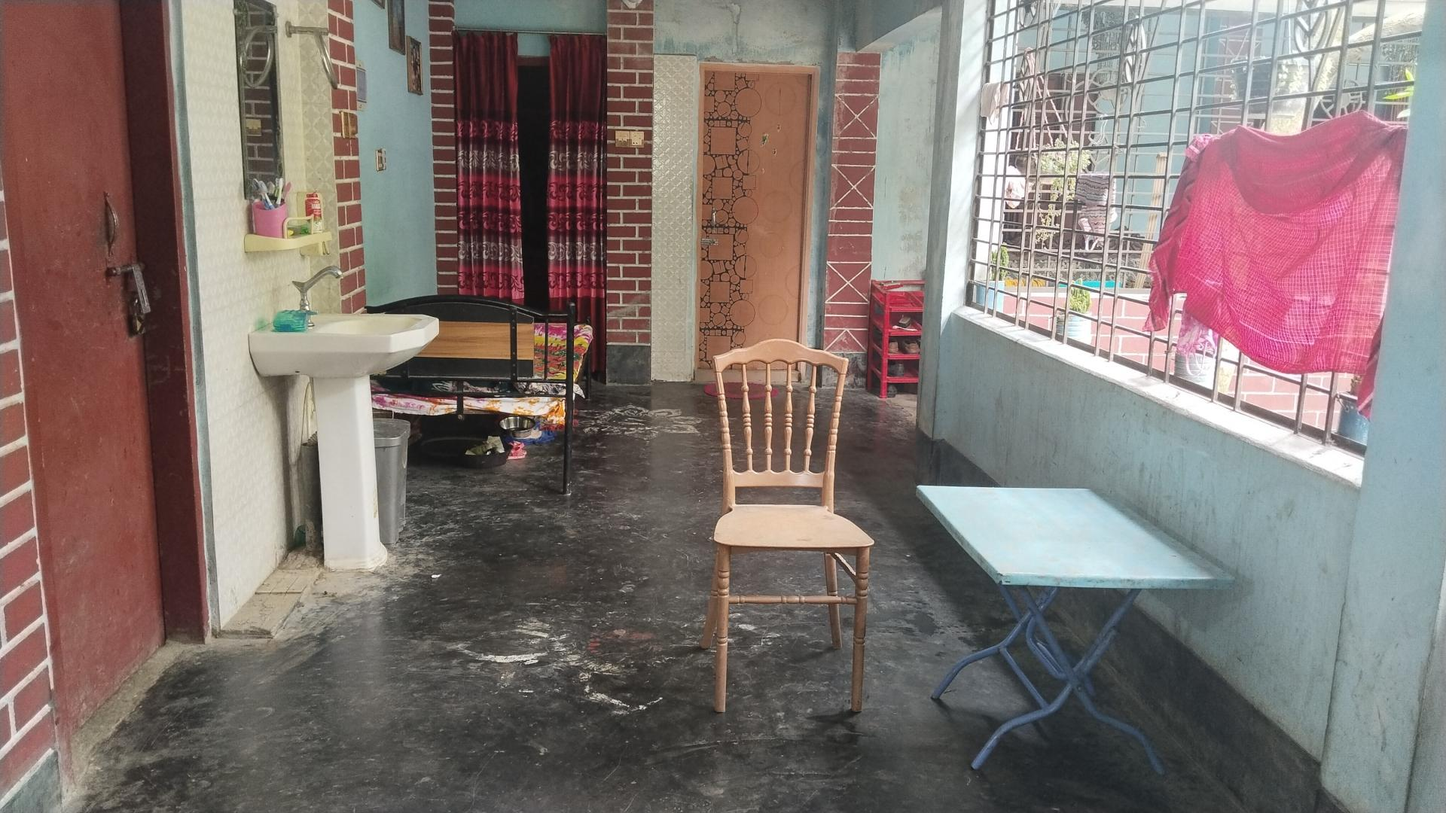Chair: (707, 332, 876, 726)
Door: (698, 66, 818, 376)
Table: (917, 478, 1232, 782)
